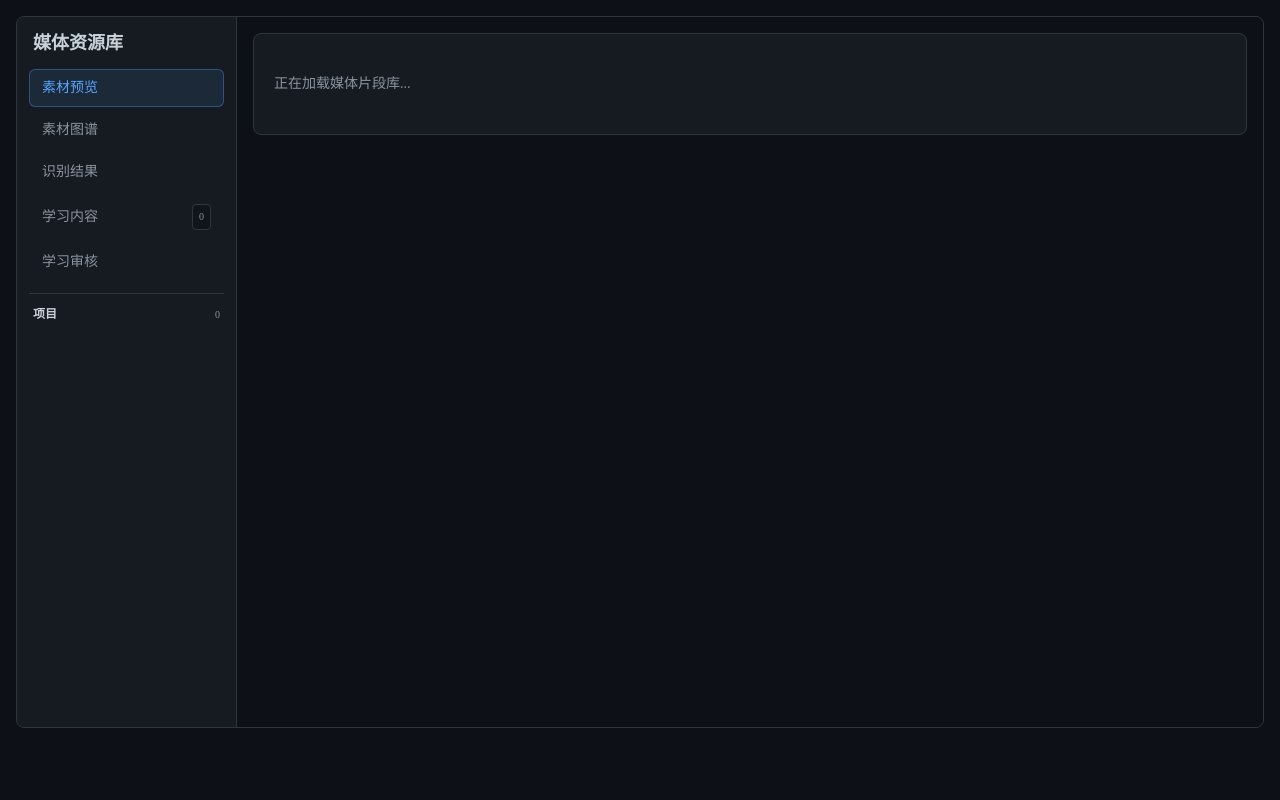
Test: MaterialsPanel › opens learning review as a first-class media-library view
The width and height of the screenshot is (1280, 800).
Click the button "学习审核" at coordinates (126, 262), box [29,243,224,281]
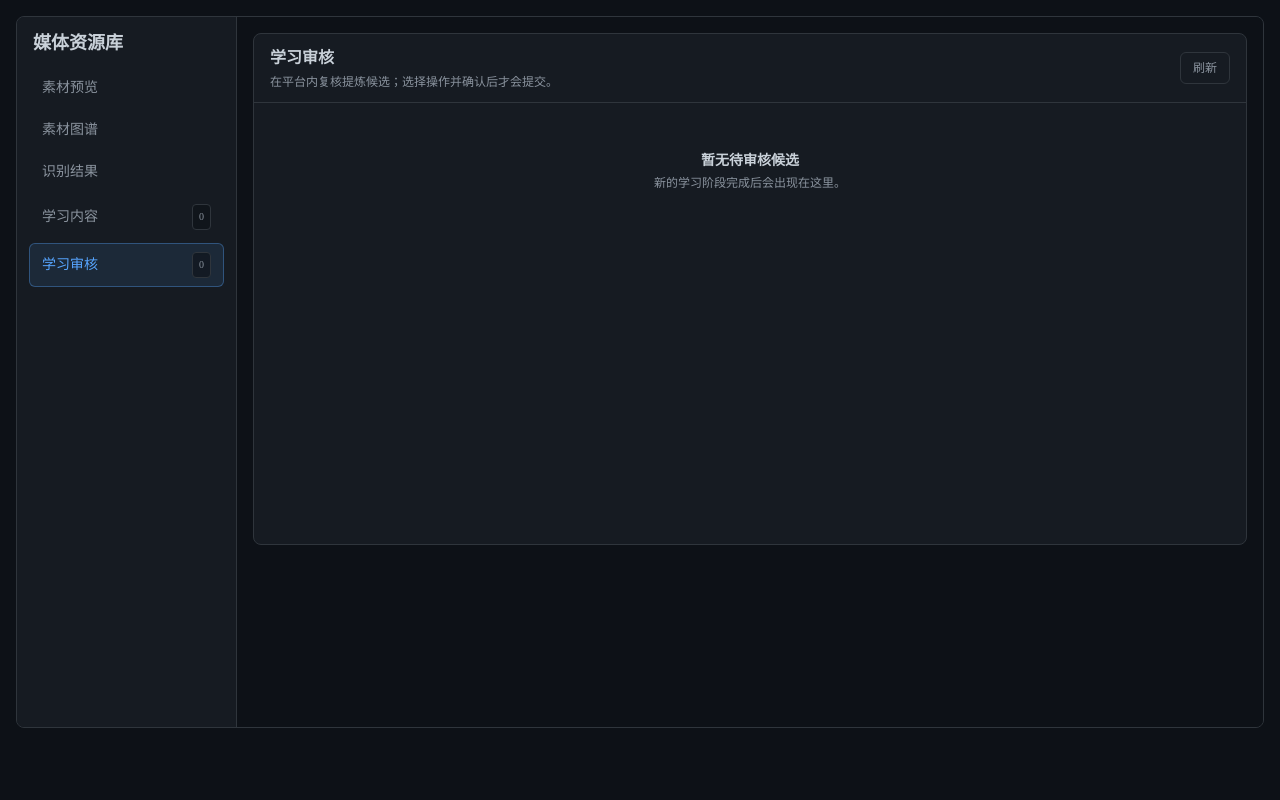
Expected: the element "学习审核" is shown, [253,33,1247,545]
Expected: the heading "暂无待审核候选" is shown, [701,153,799,168]
